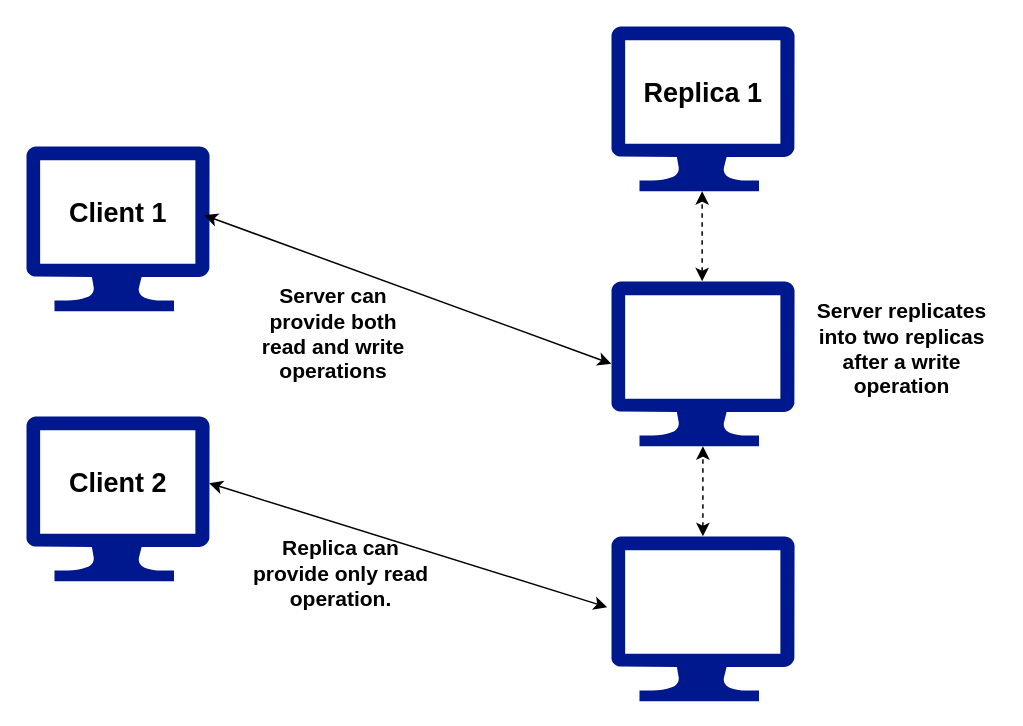
This 1023x726 diagram has some shape labels left out. Each missing label, with the centre of its shape:
"Replica 2" belongs at (x=702, y=618).
"Server" belongs at (x=702, y=363).
